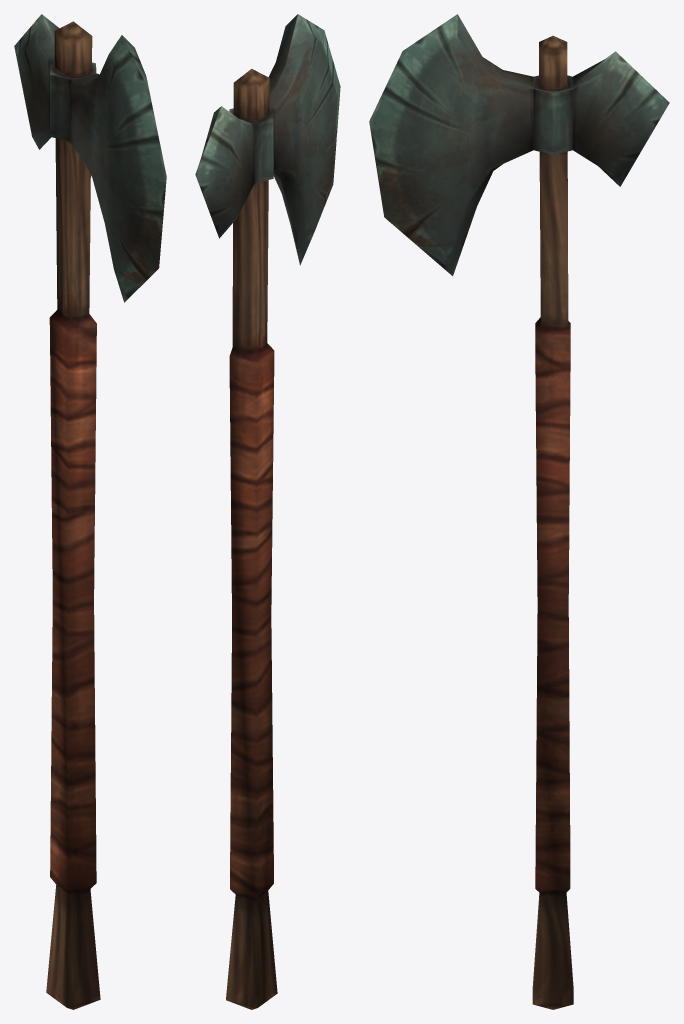
The model's file is twoHandedAxe.FBX.
The picture shows the model from 3 angles, left to right: view 1: azimuth 30°, elevation 25°; view 2: azimuth 150°, elevation 25°; view 3: azimuth 270°, elevation 25°; orthographic projection. The views are drawn at different scales.
Visible parts, largest first — view 1: twoHandedAxe; view 2: twoHandedAxe; view 3: twoHandedAxe.
Boxes of the visible parts, bbox=[...] form: twoHandedAxe: bbox=[14, 14, 166, 1009]; twoHandedAxe: bbox=[195, 14, 340, 1009]; twoHandedAxe: bbox=[369, 14, 669, 1009].
Size of the model in its own units: 5.07 by 106 by 28.97.
